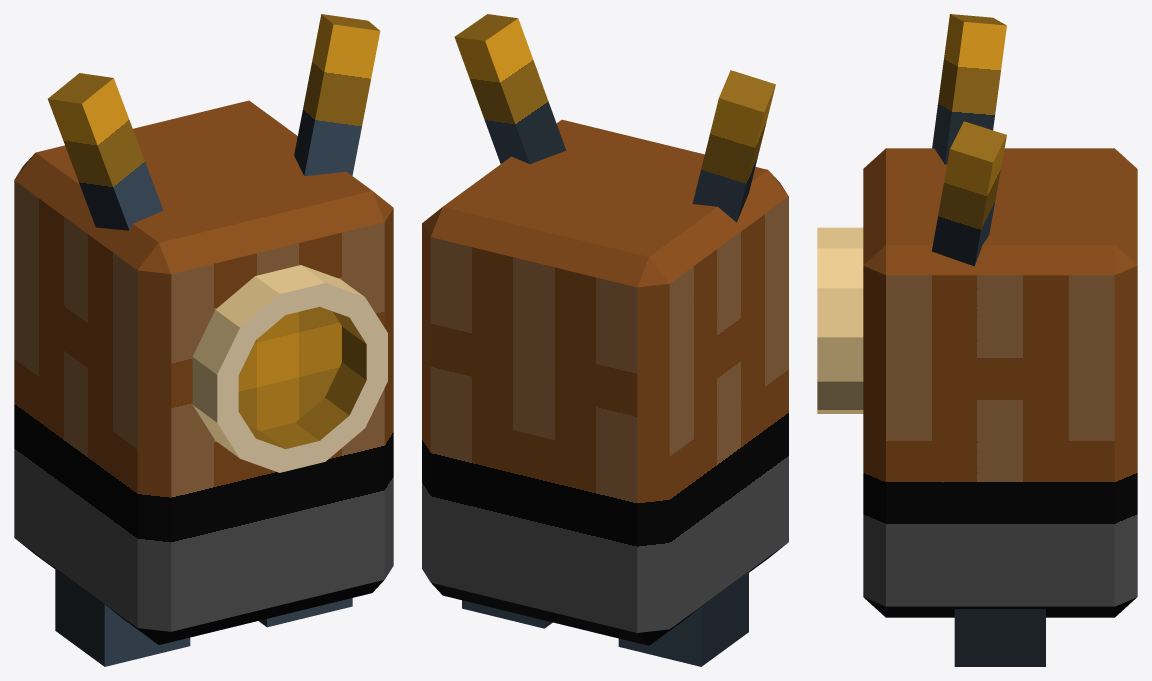
File: Electro_robot.glb
3 views of the same model, side by side, from view 1: azimuth 30°, elevation 25°; view 2: azimuth 150°, elevation 25°; view 3: azimuth 270°, elevation 25° (orthographic). The views are drawn at different scales.
Visible parts, largest first — view 1: beveled_cuboid, cuboid (×4), cylinder; view 2: beveled_cuboid, cuboid (×4); view 3: beveled_cuboid, cuboid (×3), cylinder.
Boxes of the visible parts, left/top/right/bottom form: beveled_cuboid: left=14, top=100, right=393, bottom=644; cuboid (×4): left=48, top=14, right=380, bottom=666; cylinder: left=192, top=265, right=387, bottom=472; beveled_cuboid: left=422, top=119, right=788, bottom=645; cuboid (×4): left=454, top=14, right=775, bottom=666; beveled_cuboid: left=863, top=148, right=1137, bottom=617; cuboid (×3): left=932, top=14, right=1045, bottom=666; cylinder: left=817, top=227, right=863, bottom=413.
Size of the model in its own units: 0.469 by 0.8135 by 0.4375.
1 material, 1 textured.
